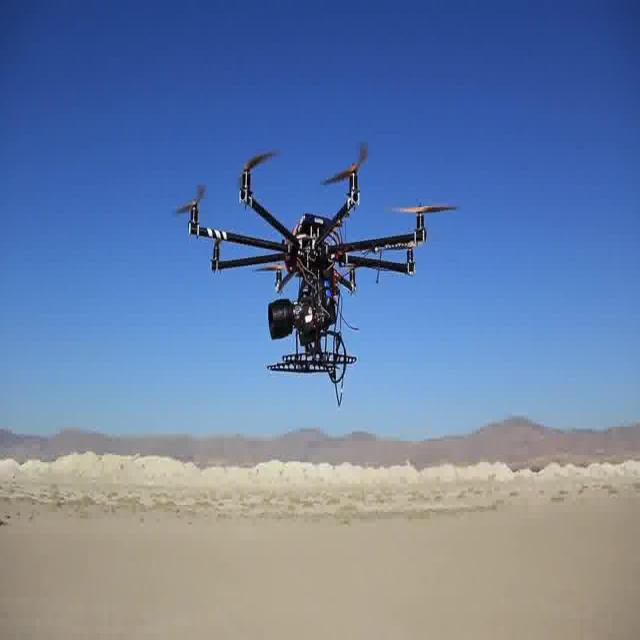drone: (180, 139, 437, 385)
